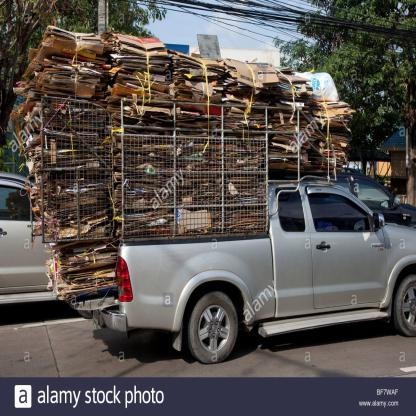overloaded-truck: (21, 17, 416, 390)
